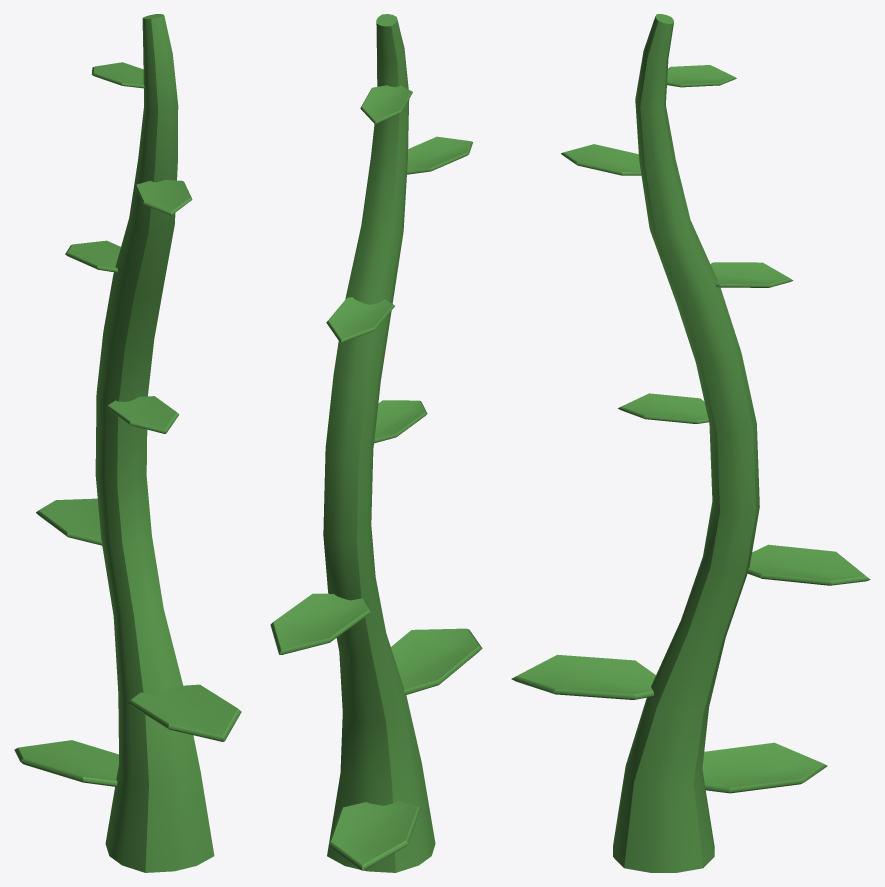
The model's file is BeanStalkModel.fbx.
The picture shows the model from 3 angles, left to right: view 1: azimuth 30°, elevation 25°; view 2: azimuth 150°, elevation 25°; view 3: azimuth 270°, elevation 25°; orthographic projection.
Parts seen in each view (by area): view 1: BeanStalk; view 2: BeanStalk; view 3: BeanStalk.
Boxes of the visible parts, left/top/right/bottom form: BeanStalk: left=14, top=14, right=241, bottom=872; BeanStalk: left=270, top=14, right=482, bottom=872; BeanStalk: left=511, top=14, right=870, bottom=872.
Bounding box in the file's own units: 0.8928 × 5.59 × 2.19.
